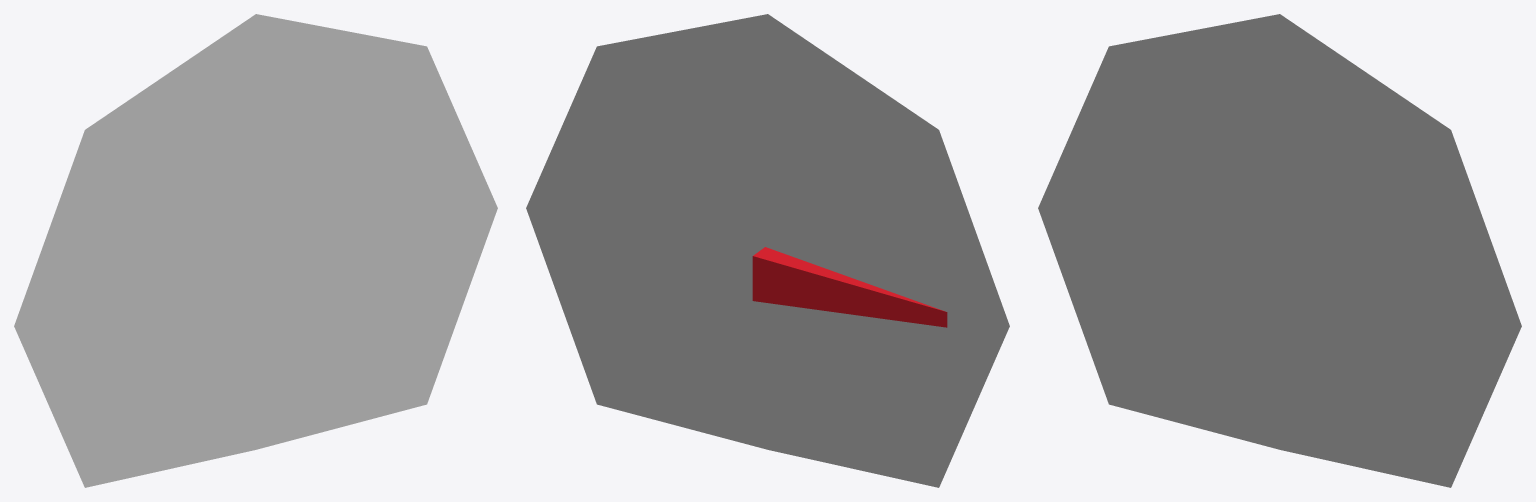
File: UI_Gauge.fbx
3 views of the same model, side by side, from view 1: azimuth 30°, elevation 25°; view 2: azimuth 150°, elevation 25°; view 3: azimuth 330°, elevation 25° (orthographic).
Visible parts, largest first — view 1: Cube.002; view 2: Cube.002, Cube.003; view 3: Cube.002.
Boxes of the visible parts, bbox=[...] form: Cube.002: bbox=[14, 14, 497, 487]; Cube.002: bbox=[526, 14, 1009, 487]; Cube.003: bbox=[752, 247, 947, 327]; Cube.002: bbox=[1038, 14, 1521, 487].
Size of the model in its own units: 241 by 208 by 13.33.
